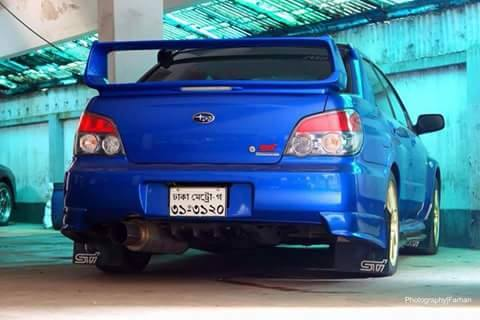registration_plate: (168, 185, 227, 218)
